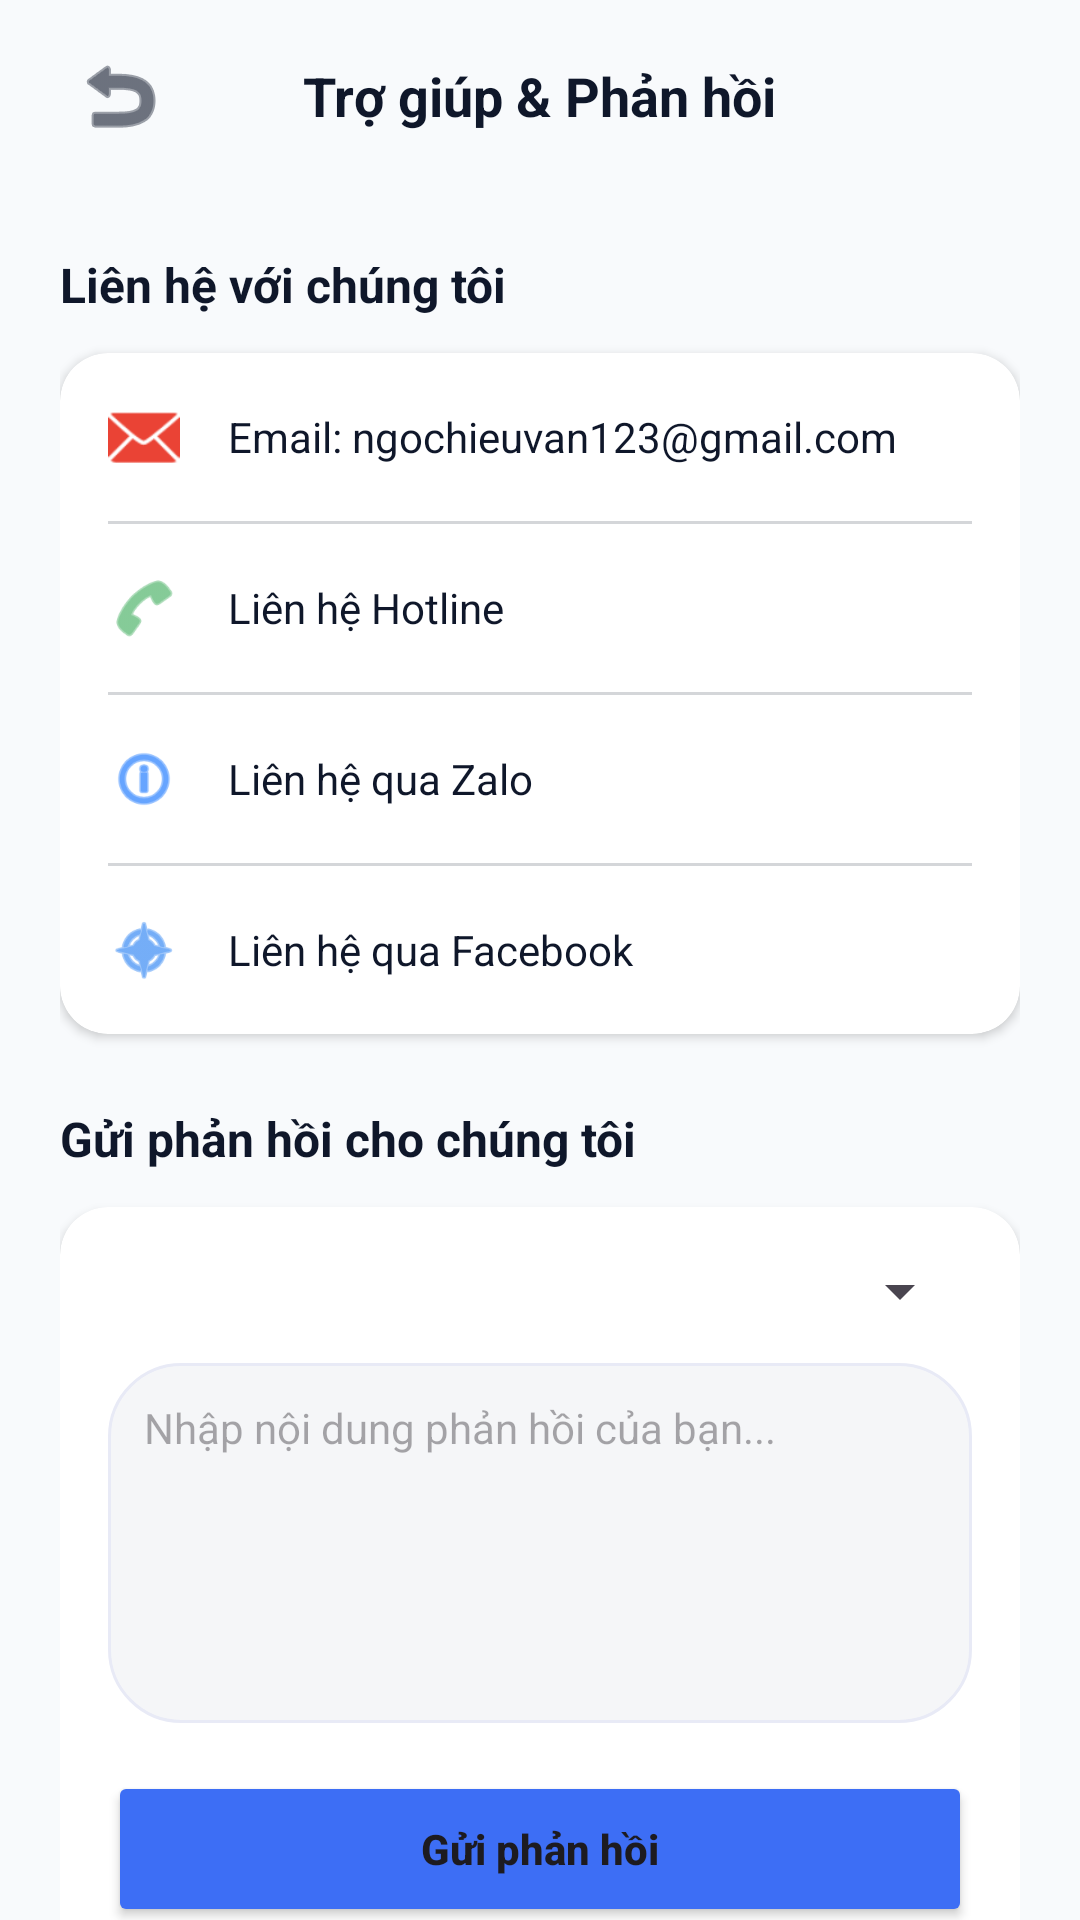

Point at icon controls on the screen. Image size 1080 x 1920, points as [x,y].
call: [144,608]
compass: [143,950]
info details: [144,779]
revert: [121,96]
